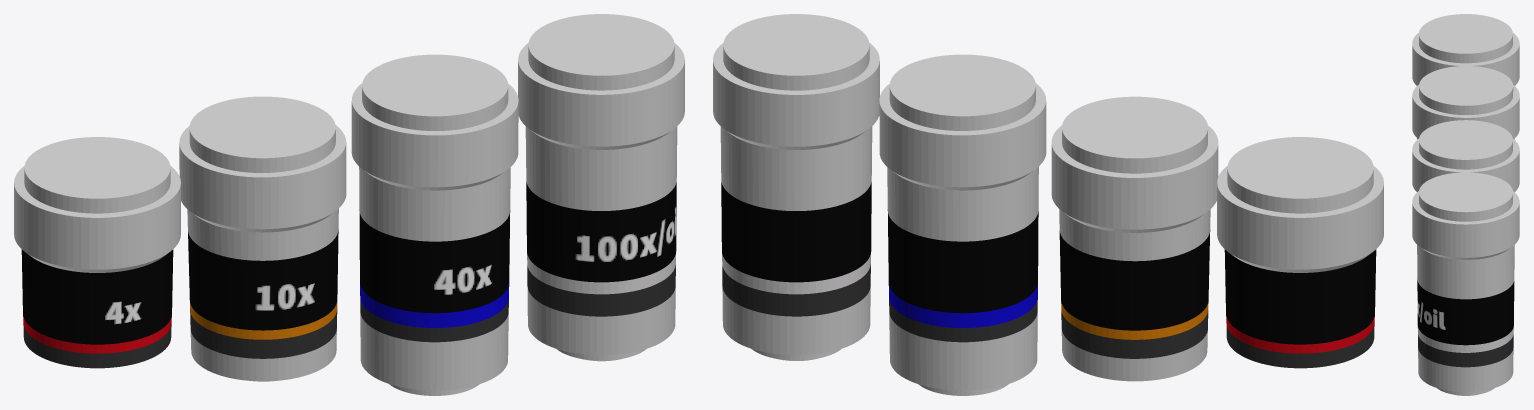
Rendered from Scope.glb.
The picture shows the model from 3 angles, left to right: view 1: azimuth 30°, elevation 25°; view 2: azimuth 150°, elevation 25°; view 3: azimuth 270°, elevation 25°; orthographic projection. The views are drawn at different scales.
Parts seen in each view (by area): view 1: ScopeX100, ScopeX40, ScopeX10, ScopeX4; view 2: ScopeX100, ScopeX40, ScopeX10, ScopeX4; view 3: ScopeX100, ScopeX10, ScopeX40, ScopeX4.
Part boxes in pixels (x1,y1,x2,y2): ScopeX100: [518, 14, 684, 361]; ScopeX40: [351, 54, 518, 395]; ScopeX10: [179, 96, 346, 381]; ScopeX4: [14, 137, 180, 368]; ScopeX100: [713, 14, 879, 360]; ScopeX40: [879, 54, 1046, 395]; ScopeX10: [1051, 96, 1218, 381]; ScopeX4: [1217, 137, 1383, 368]; ScopeX100: [1412, 172, 1519, 395]; ScopeX10: [1412, 66, 1519, 139]; ScopeX40: [1412, 120, 1519, 192]; ScopeX4: [1412, 14, 1519, 85].
Bounding box in the file's own units: 0.2558 × 0.1148 × 0.0571.
10 materials, 4 textured.
